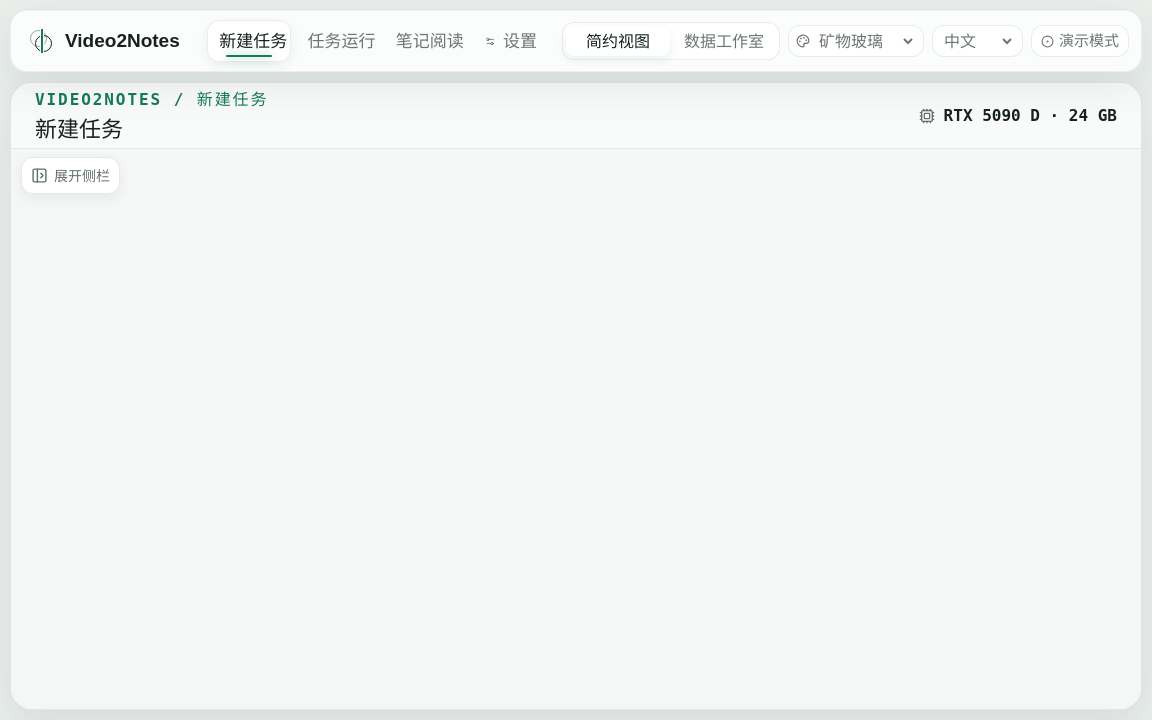
Scenario: narrow slide-over context panel › opens the slide-over with a scrim from the expand button and closes it with Escape
The width and height of the screenshot is (1152, 720).
Click the button "展开侧栏" at (70,176), box 21,157 -> 120,194
(page scrolled)
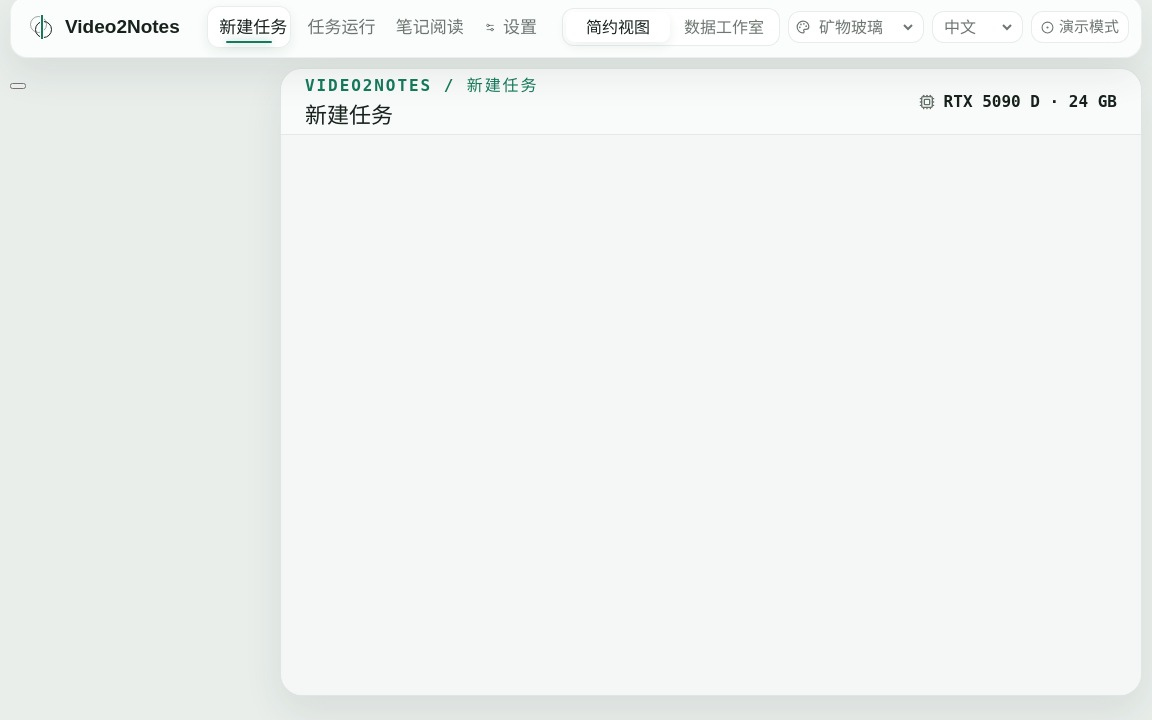
Expected: the button with class "context-scrim" is shown, 10,83 -> 26,89
Press Escape
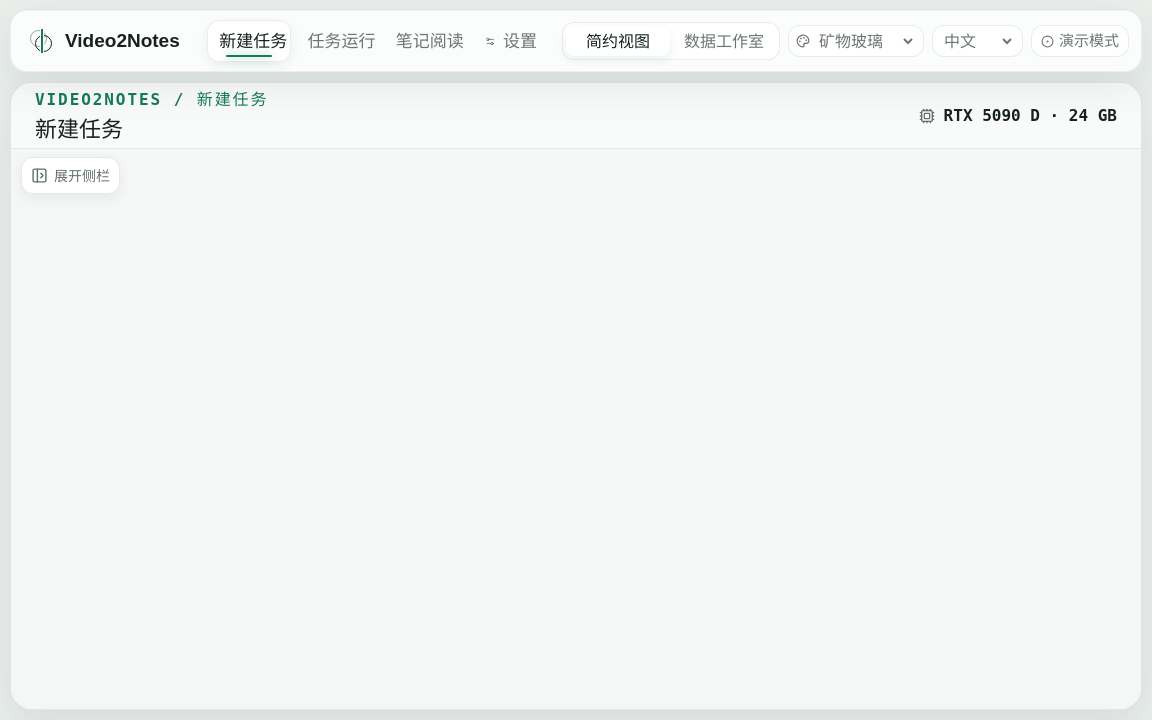
Expected: the button "展开侧栏" is shown, 21,157 -> 120,194
Expected: the button with class "context-scrim" is gone
